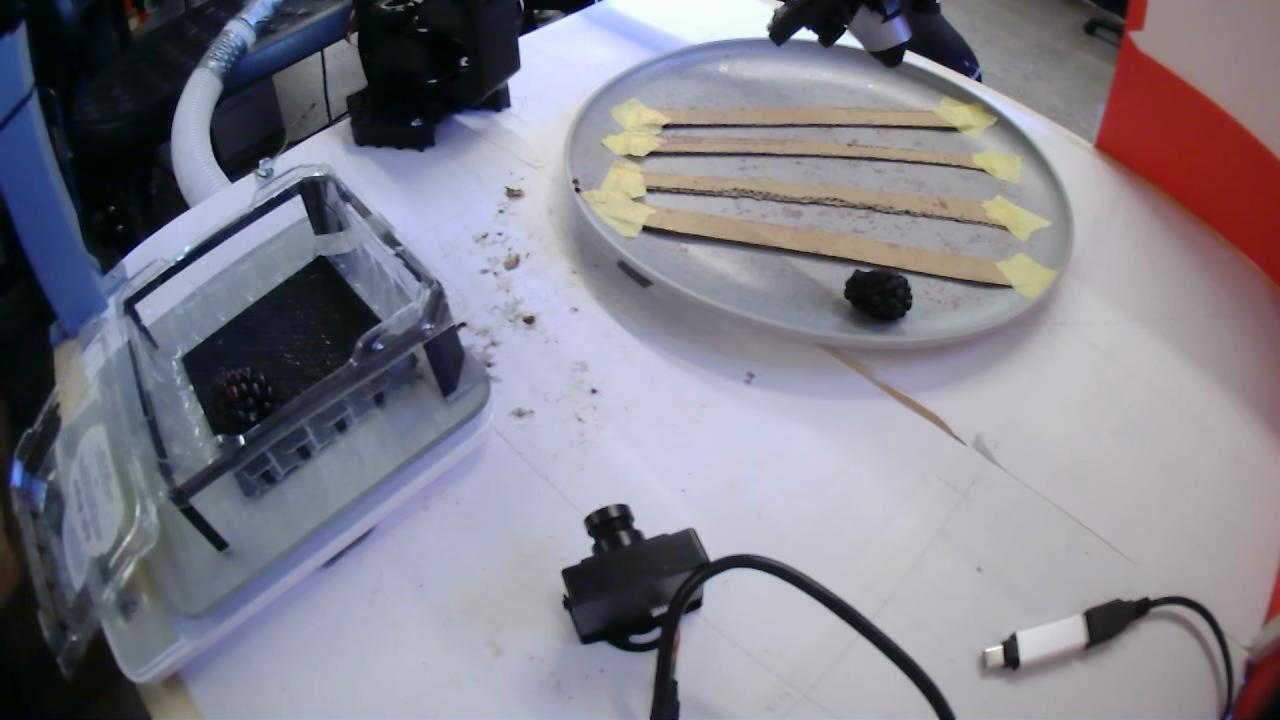berry: (217, 367, 276, 431), (844, 269, 912, 322)
